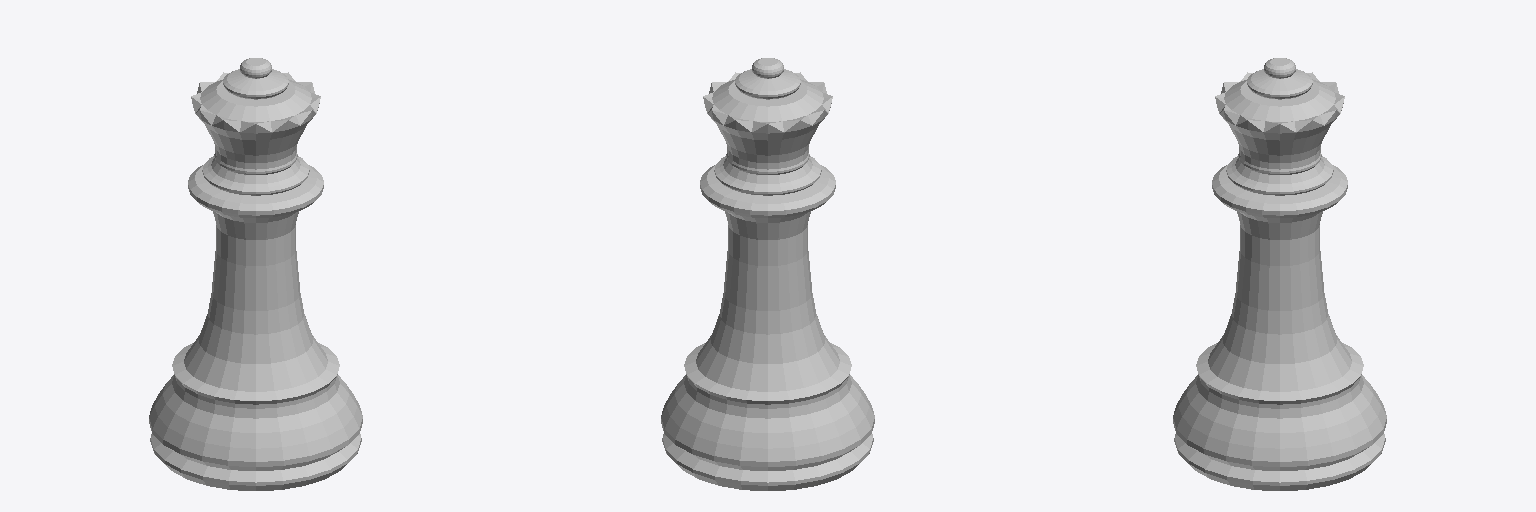
File: queen.obj
3 renders of one model, left to right at view 1: azimuth 30°, elevation 25°; view 2: azimuth 150°, elevation 25°; view 3: azimuth 270°, elevation 25°, orthographic.
Visible parts, largest first — view 1: Mesh1 Model; view 2: Mesh1 Model; view 3: Mesh1 Model.
Part boxes in pixels (bbox=[...]): Mesh1 Model: bbox=[149, 58, 362, 490]; Mesh1 Model: bbox=[661, 58, 874, 490]; Mesh1 Model: bbox=[1173, 58, 1386, 490].
Size of the model in its own units: 0.888 by 1.77 by 0.888.